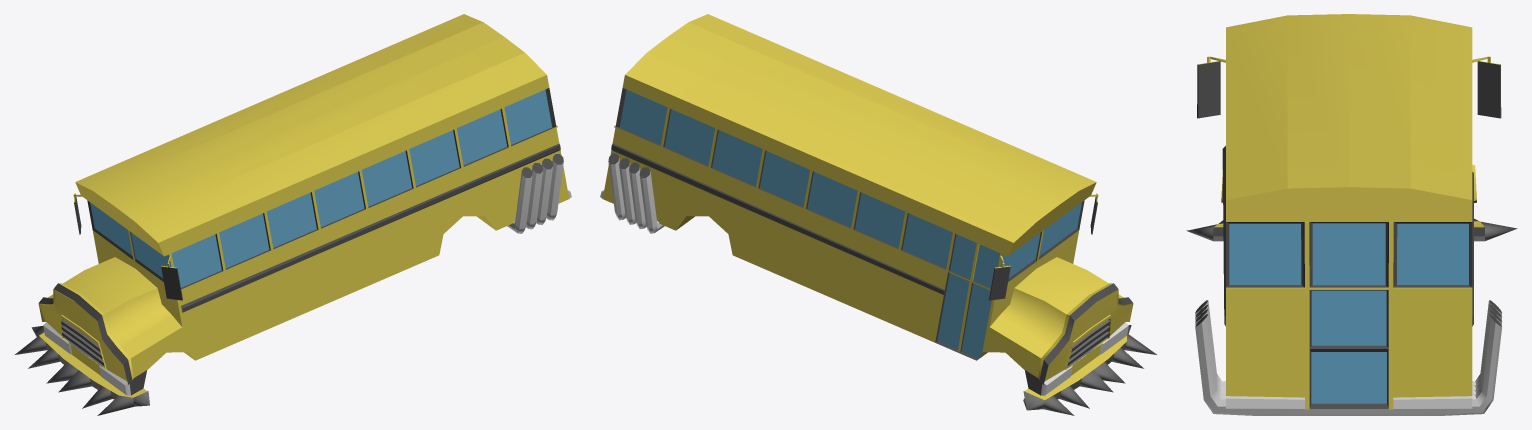
Rendered from School Bus Battle.fbx.
3 views of the same model, side by side, from view 1: azimuth 30°, elevation 25°; view 2: azimuth 150°, elevation 25°; view 3: azimuth 270°, elevation 25° (orthographic). The views are drawn at different scales.
Visible parts, largest first — view 1: polySurface10; view 2: polySurface10; view 3: polySurface10.
Boxes of the visible parts, x1,y1,x2,y2 form: polySurface10: (15, 14, 571, 415); polySurface10: (600, 14, 1156, 415); polySurface10: (1186, 14, 1517, 415).
Bounding box in the file's own units: 12.6 × 6.11 × 5.1.
